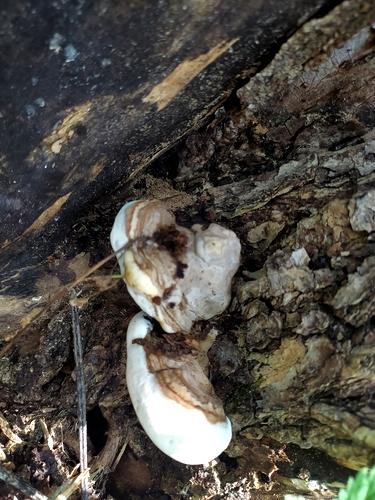Ganoderma - Fruit Body: (110, 191, 239, 320), (125, 323, 234, 465)
